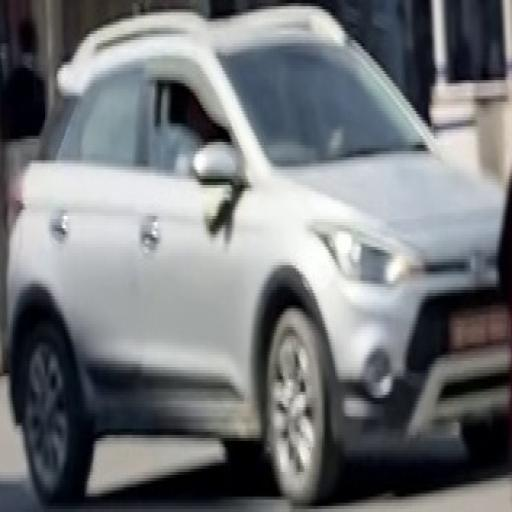license_plate: (448, 306, 511, 353)
